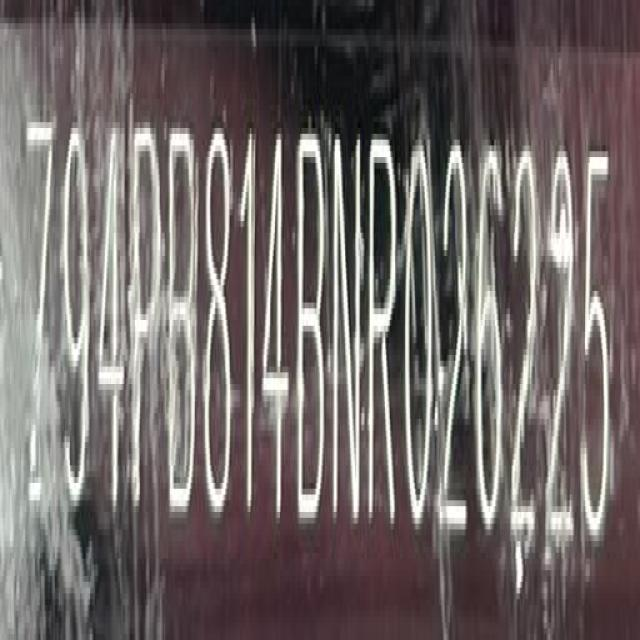0: (405, 136, 437, 542)
1: (238, 127, 255, 526)
2: (511, 142, 544, 549), (438, 131, 470, 541), (546, 146, 576, 554)
4: (260, 125, 293, 533), (95, 117, 128, 521)
5: (584, 147, 616, 552)
6: (475, 138, 504, 549)
8: (203, 125, 233, 524)
9: (60, 117, 91, 520)
B: (166, 120, 202, 520), (296, 124, 330, 531)
N: (332, 127, 365, 534)
P: (128, 114, 162, 522)
R: (368, 125, 401, 535)
Z: (20, 99, 57, 515)
